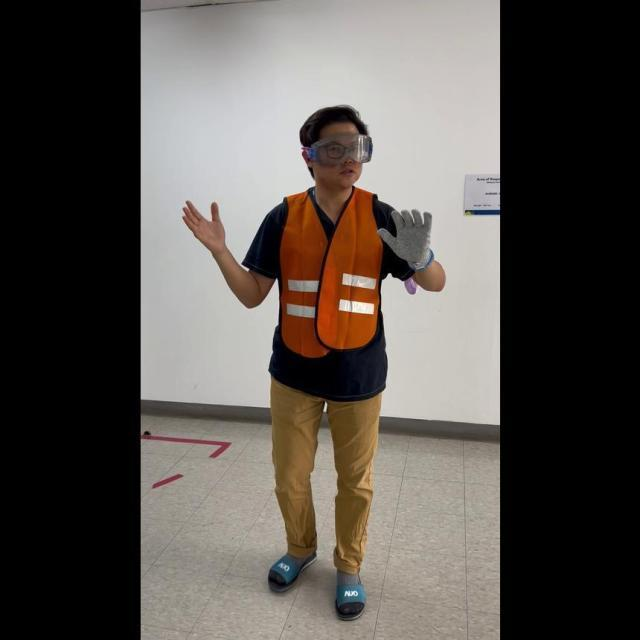bare_hand: (180, 193, 226, 252)
gloved_hand: (377, 202, 437, 269)
